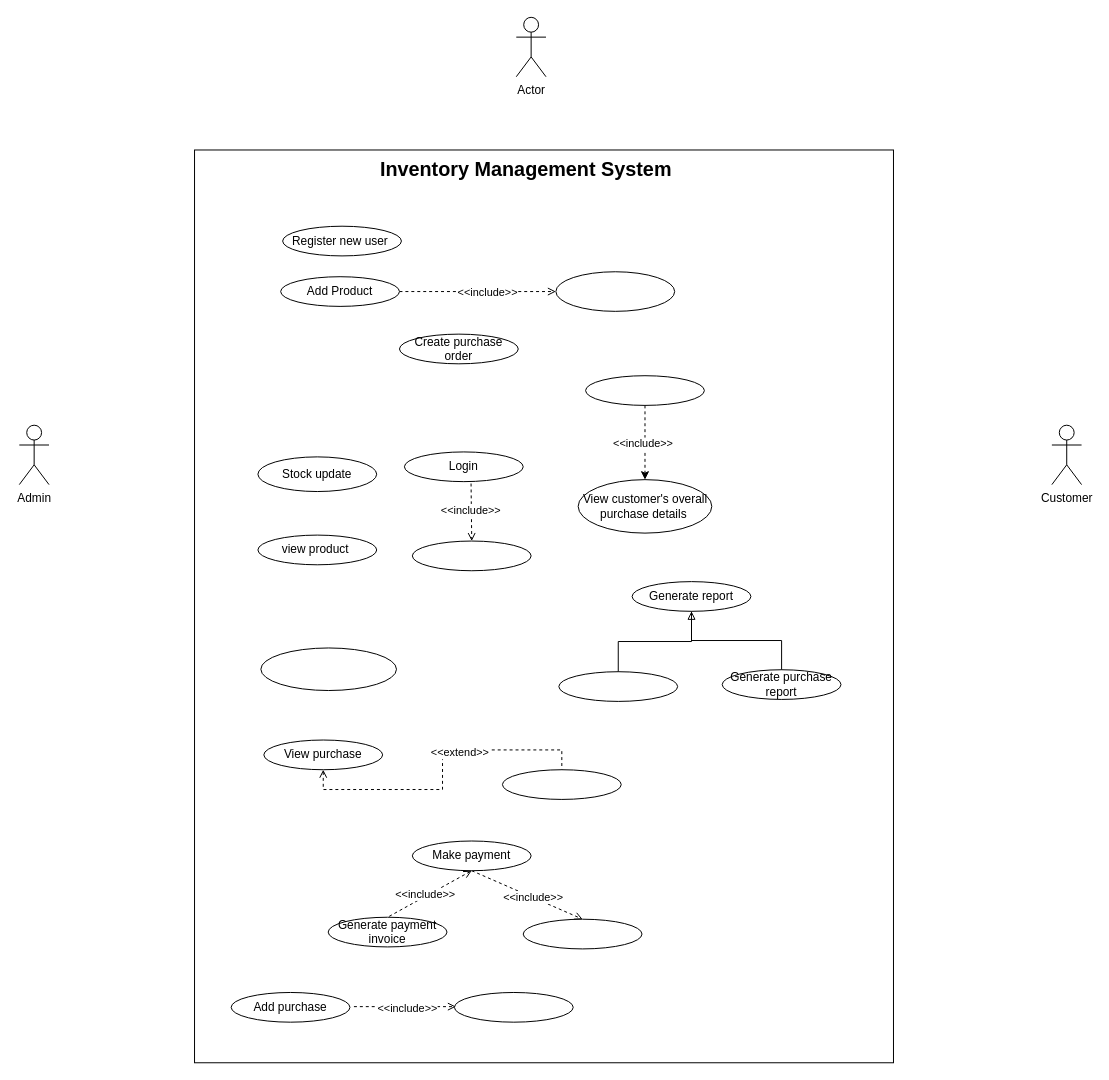
Image size: 1109x1080. Some labels were removed from this diagram. The shapes that lost their labels are listed below. From the top down, each one's centre as x and y in pixels, then its label:
At point 615,291: "Inventory Update stock".
At point 644,390: "Dispatch order".
At point 471,555: "user authentication".
At point 328,669: "Retrieve past transaction details".
At point 618,686: "Generate sales report".
At point 561,784: "Compare prices".
At point 582,933: "Select payment method".
At point 513,1006: "Update stock".
